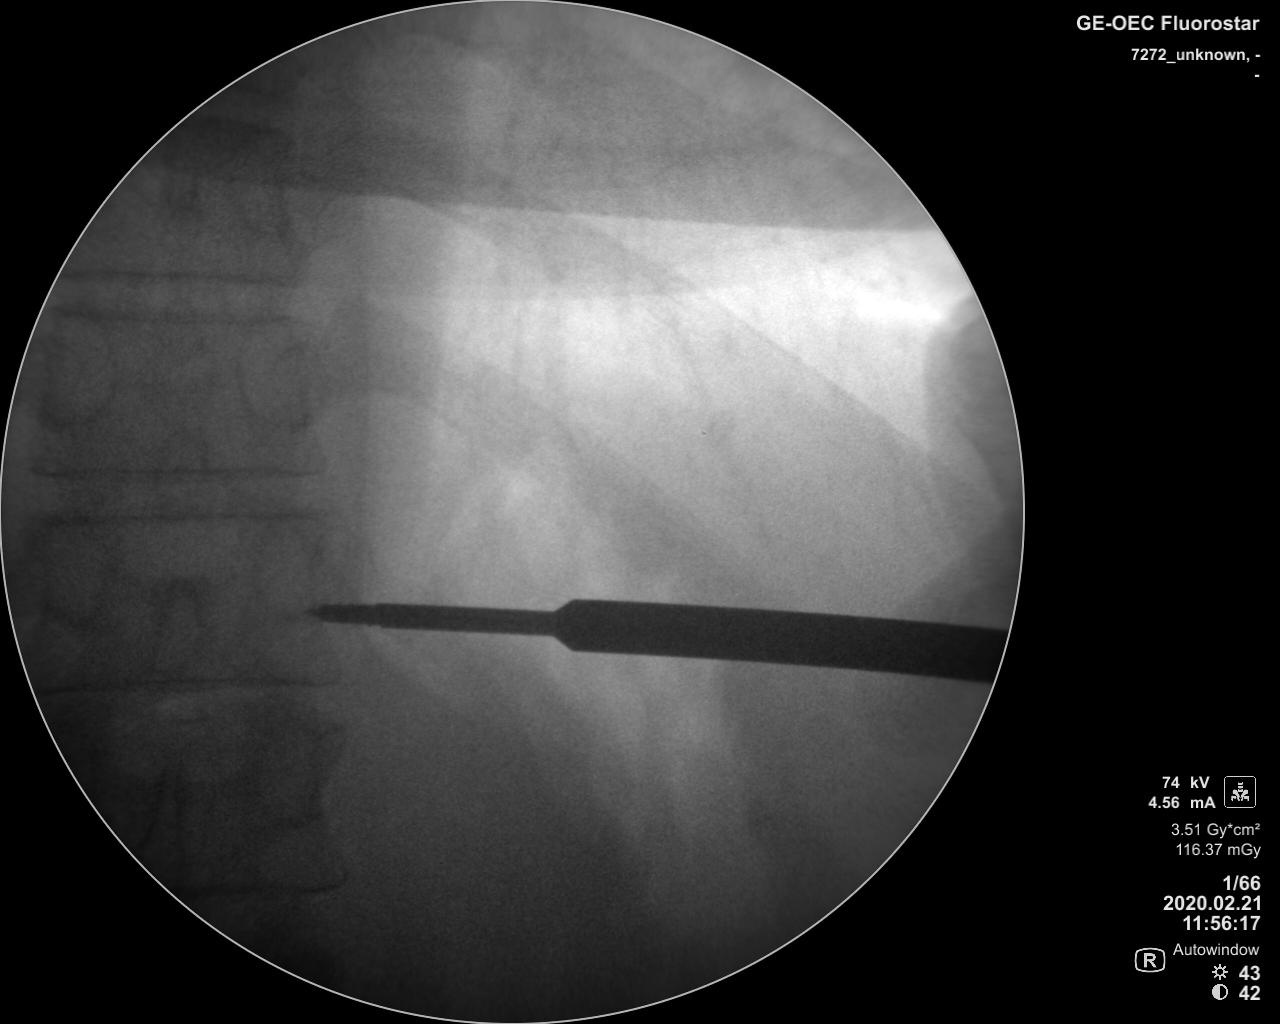eyes: (232, 311, 325, 436), (252, 718, 346, 830), (36, 307, 122, 428), (26, 513, 109, 626), (239, 519, 317, 632)
line: (9, 499, 343, 534), (14, 450, 340, 484), (38, 674, 349, 704), (63, 256, 328, 288), (180, 863, 356, 900)
nose: (144, 565, 206, 686), (150, 415, 208, 537), (137, 741, 188, 867)
